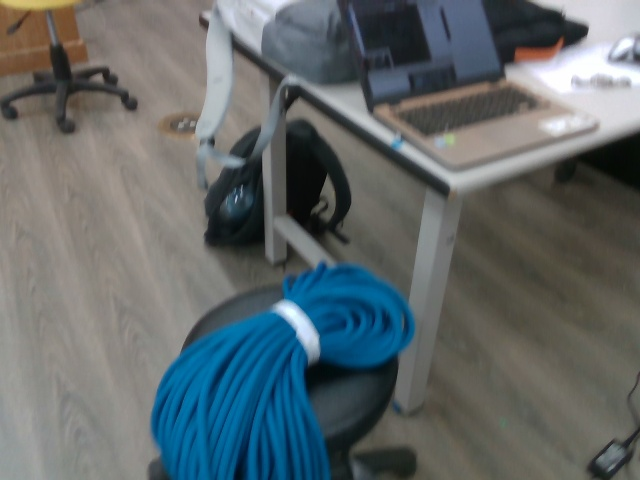rope: (147, 259, 419, 480)
